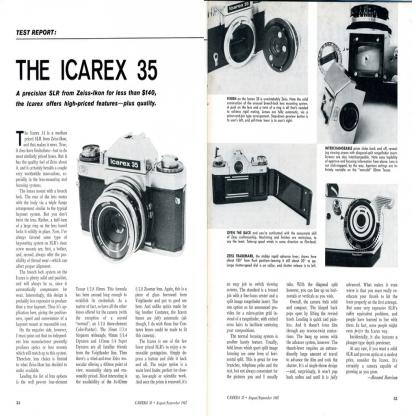Camera: (74, 126, 187, 267), (318, 1, 399, 105), (212, 149, 312, 226), (207, 1, 302, 76), (327, 183, 396, 267), (319, 59, 367, 143)
